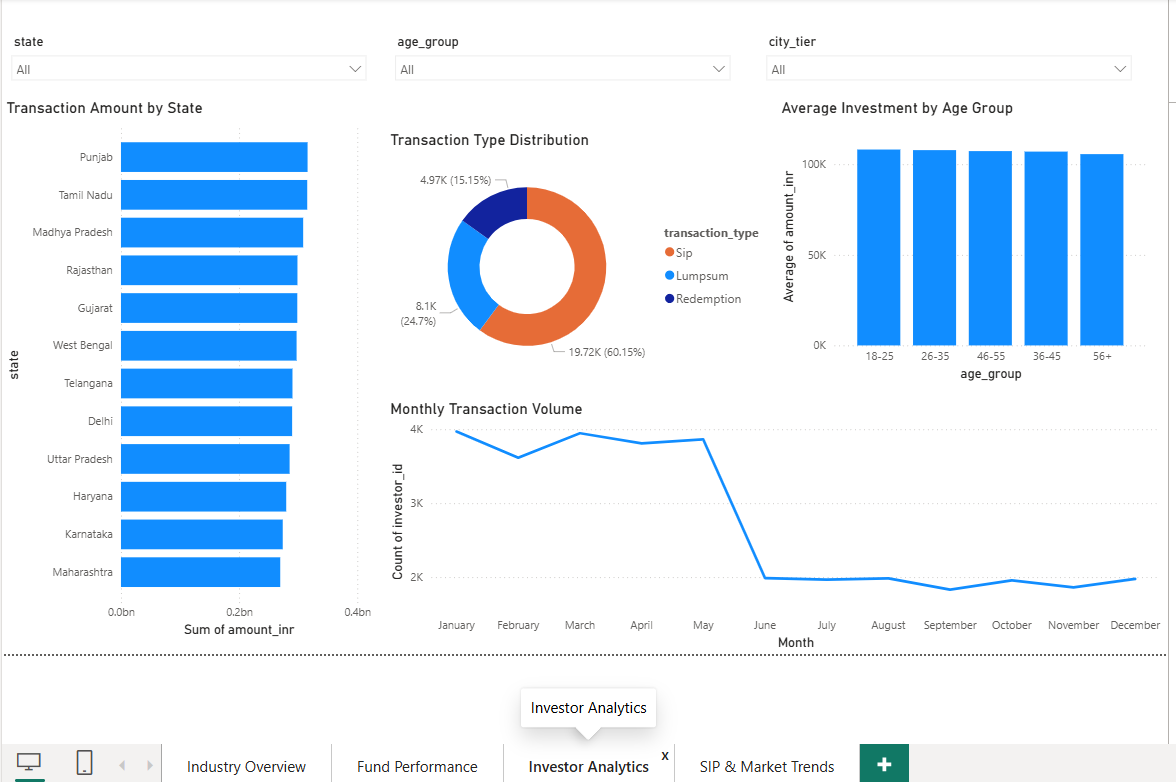

The dashboard page shown, as its layout file describes it:
{"tool":"powerbi","page":{"name":"Investor Analytics","canvas":[1280,720],"ordinal":2},"visuals":[{"type":"clusteredBarChart","title":"Transaction Amount by State","fields":{"Category":["08_transactions_clean.state"],"Y":["Sum(08_transactions_clean.amount_inr)"]},"box":[0,109.8,410.3,596.9],"z":0},{"type":"donutChart","title":"Transaction Type Distribution","fields":{"Category":["08_transactions_clean.transaction_type"],"Y":["CountNonNull(08_transactions_clean.transaction_type)"]},"box":[421.3,145.5,429.5,279.9],"z":1000},{"type":"clusteredColumnChart","title":"Average Investment by Age Group","fields":{"Category":["08_transactions_clean.age_group"],"Y":["Avg(08_transactions_clean.amount_inr)"]},"box":[850.8,109.8,411.7,315.6],"z":2000},{"type":"lineChart","title":"Monthly Transaction Volume","fields":{"Category":["08_transactions_clean.transaction_date.Variation.Date Hierarchy.Month","08_transactions_clean.transaction_date.Variation.Date Hierarchy.Day"],"Y":["CountNonNull(08_transactions_clean.investor_id)"]},"box":[421.3,440.5,859,279.9],"z":3000},{"type":"slicer","fields":{"Values":["08_transactions_clean.state"]},"box":[0,34.3,410.3,75.5],"z":4000},{"type":"slicer","fields":{"Values":["08_transactions_clean.age_group"]},"box":[421.3,34.3,388.3,75.5],"z":5000},{"type":"slicer","fields":{"Values":["08_transactions_clean.city_tier"]},"box":[828.8,34.3,421.3,75.5],"z":6000}]}

Visuals, with their boxes on the page's 1280x720 design canvas (x1, y1, x2, y2). These are canvas units, not pixel positions in the 1176x782 screenshot, which may show the page scaled, cropped or inside an application window:
"Transaction Amount by State" clusteredBarChart: BBox(0, 110, 410, 707)
"Transaction Type Distribution" donutChart: BBox(421, 146, 851, 425)
"Average Investment by Age Group" clusteredColumnChart: BBox(851, 110, 1262, 425)
"Monthly Transaction Volume" lineChart: BBox(421, 440, 1280, 720)
slicer - 08_transactions_clean.state: BBox(0, 34, 410, 110)
slicer - 08_transactions_clean.age_group: BBox(421, 34, 810, 110)
slicer - 08_transactions_clean.city_tier: BBox(829, 34, 1250, 110)
